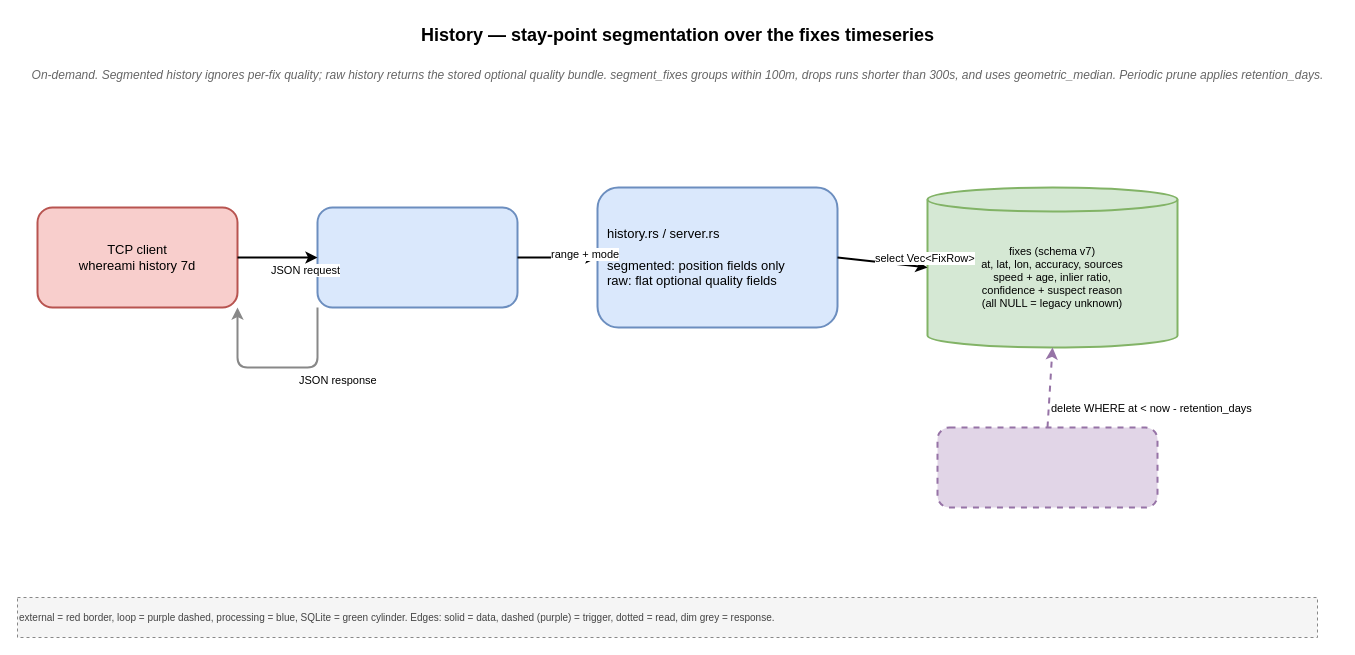
This 1355x655 diagram has some shape labels left out. Here are the shapes that lost their labels. From the top down, the box of each, then its label:
(316, 206, 518, 308): server.rs TCP :4747 dispatch_command
(936, 426, 1158, 508): history prune periodic
